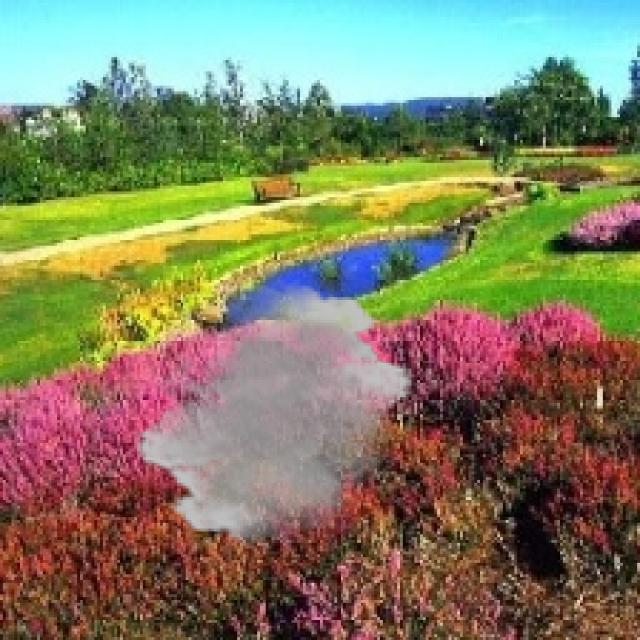smoke: (134, 280, 414, 549)
